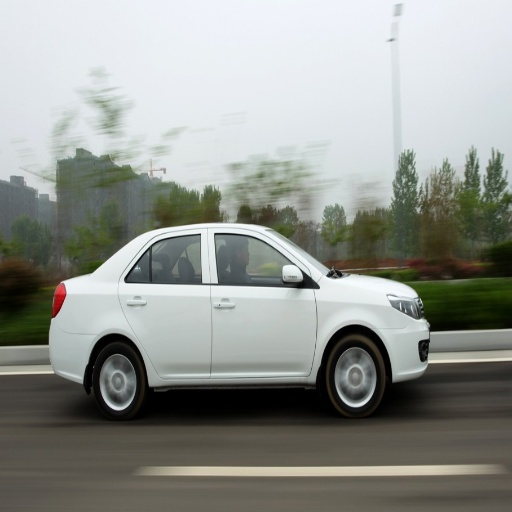back_right_door: (120, 228, 210, 379)
front_right_door: (211, 229, 317, 375)
